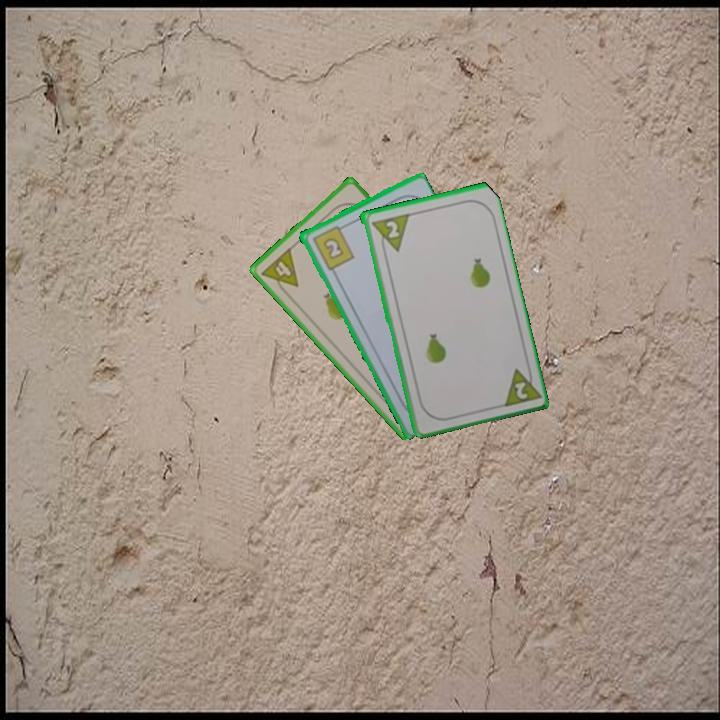2b: (308, 221, 357, 273)
2p: (498, 361, 542, 410), (367, 210, 411, 257)
4p: (257, 244, 301, 299)
